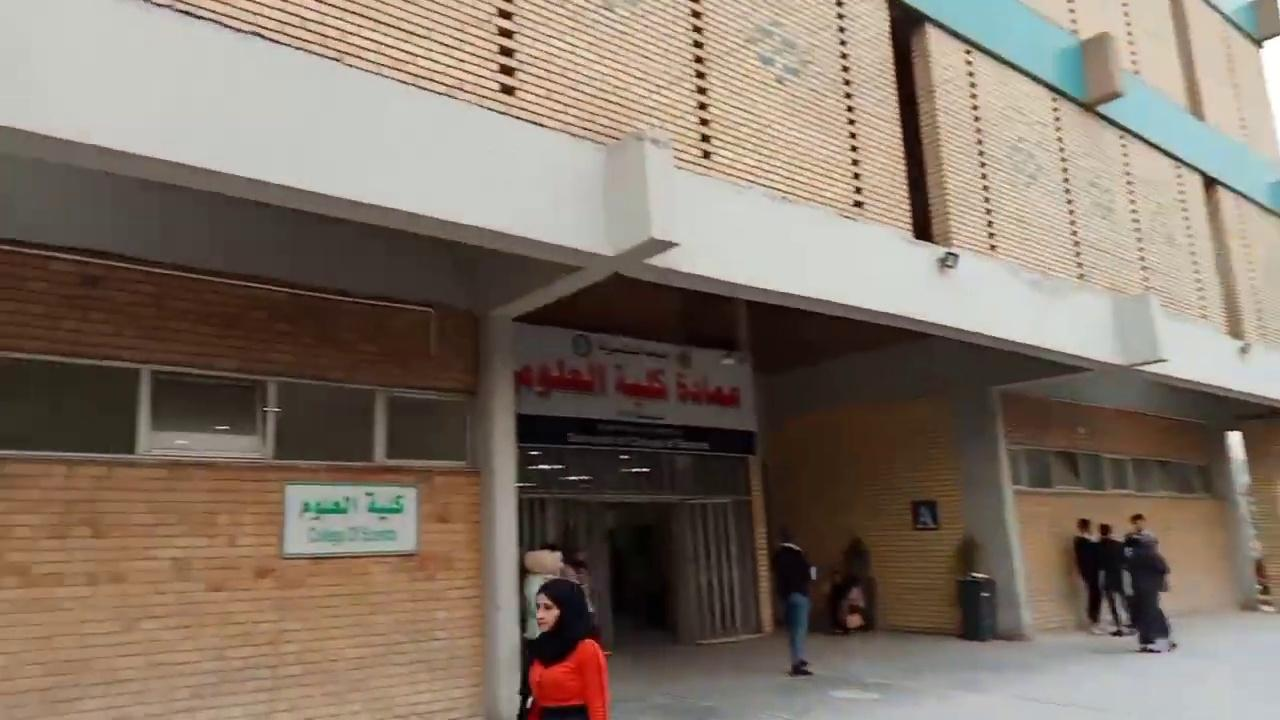person: (525, 577, 610, 719), (1122, 513, 1174, 652), (770, 526, 813, 676), (1097, 522, 1134, 636), (1072, 517, 1106, 634), (839, 535, 874, 631)
